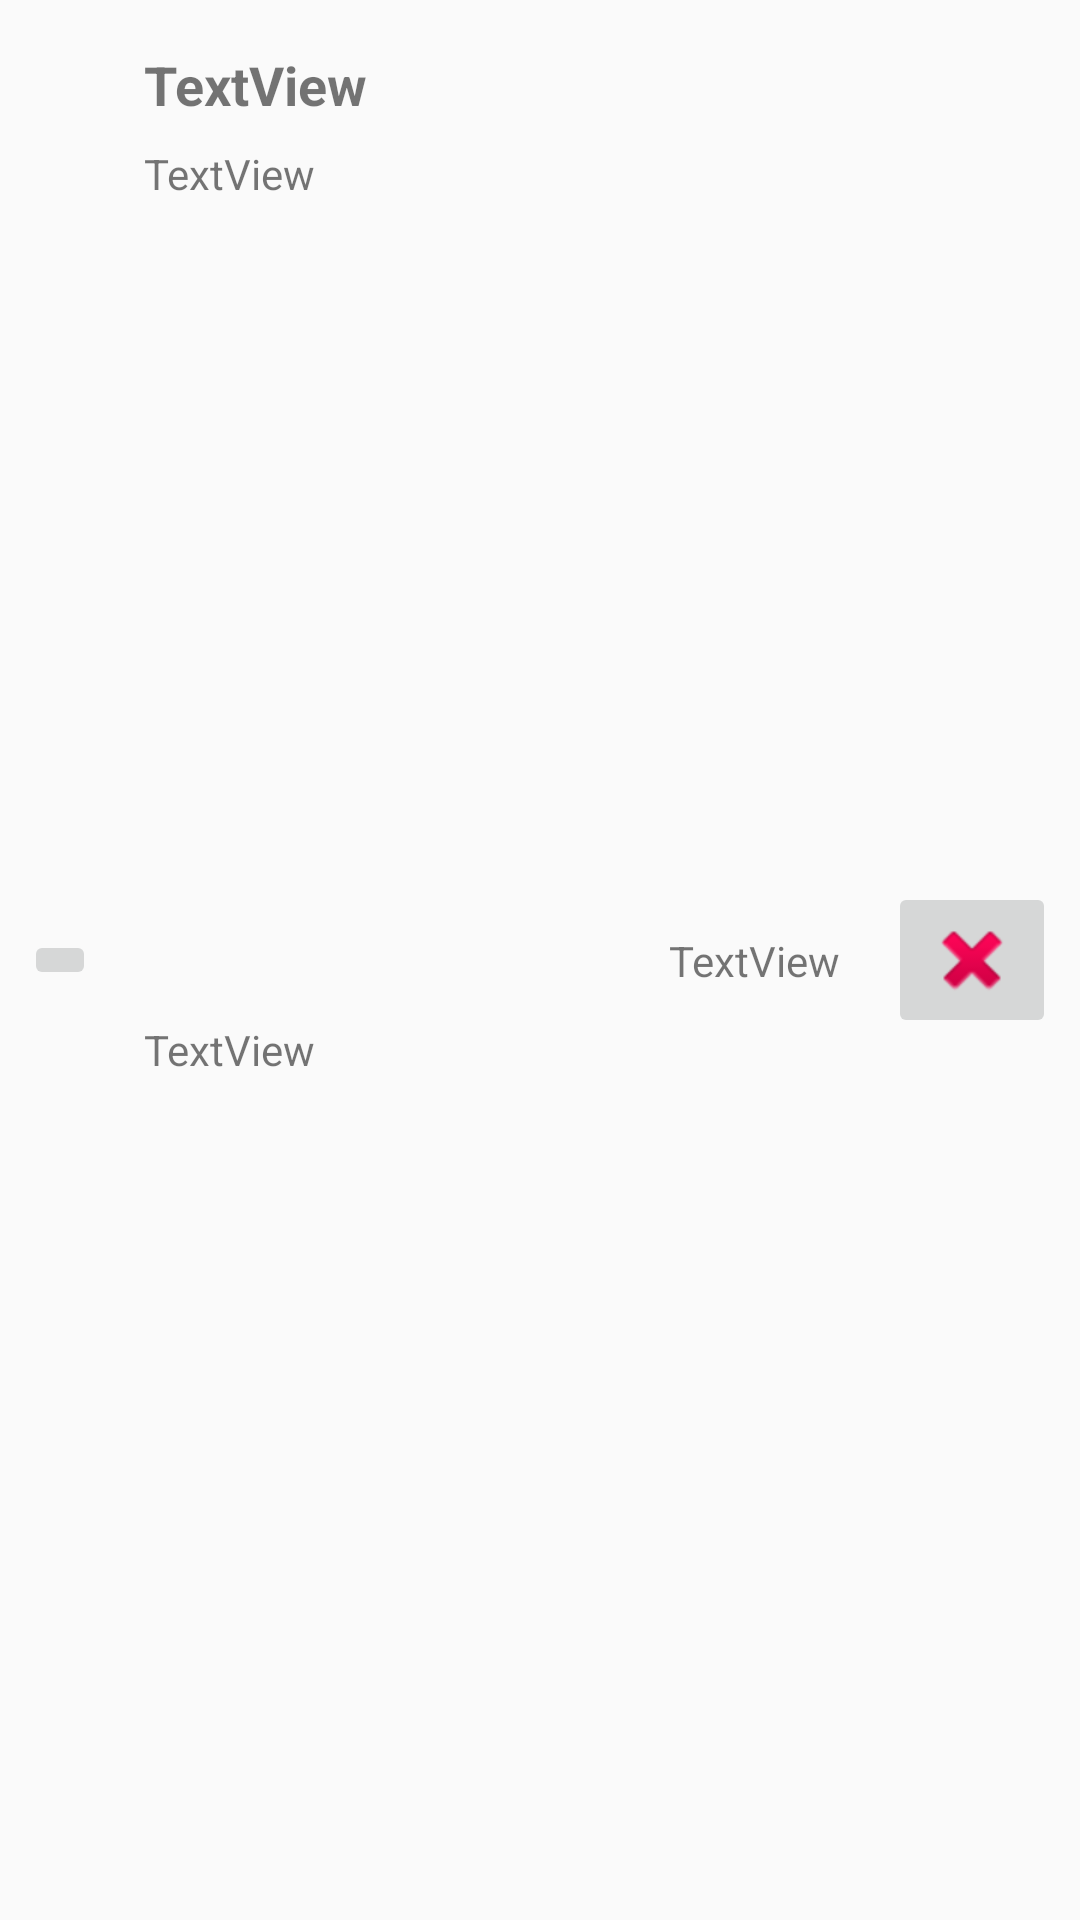

Locate icon controls on the screen. Image size 1080×1920, boxes as bbox=[x1, y1, x2, y2].
delete: bbox=[900, 900, 1044, 1020]
